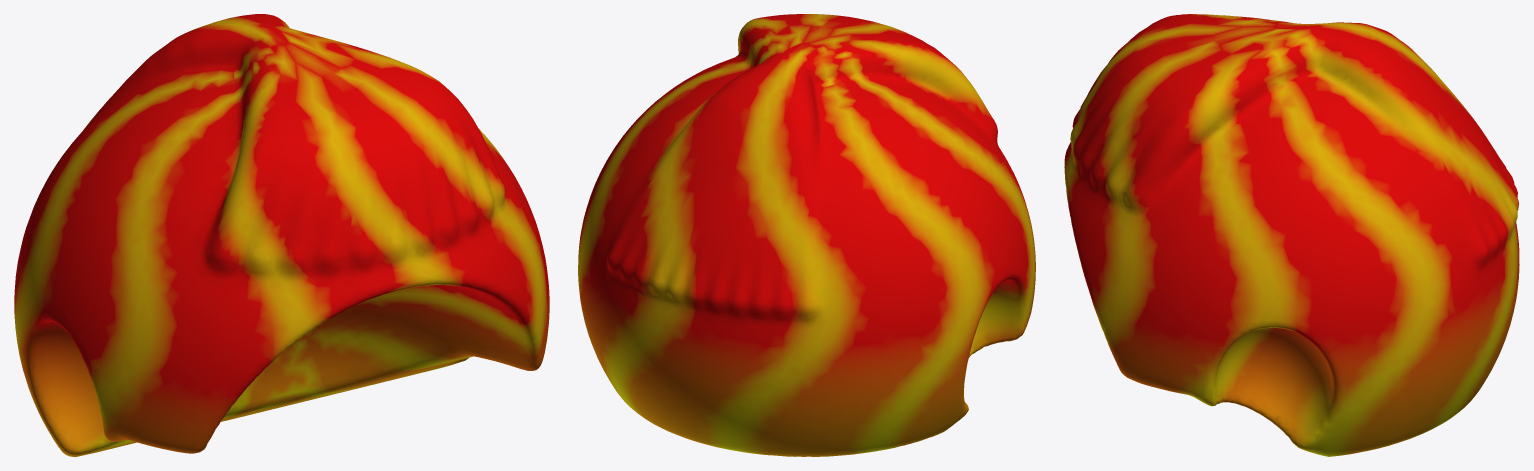
File: slick-back.glb
3 renders of one model, left to right at view 1: azimuth 30°, elevation 25°; view 2: azimuth 150°, elevation 25°; view 3: azimuth 270°, elevation 25°, orthographic. The views are drawn at different scales.
Visible parts, largest first — view 1: part; view 2: part; view 3: part.
Boxes of the visible parts, box(x1,y1,x2,y2) form: part: box(14, 14, 549, 456); part: box(578, 14, 1035, 456); part: box(1064, 14, 1519, 456).
Size of the model in its own units: 2.08 by 1.72 by 2.
